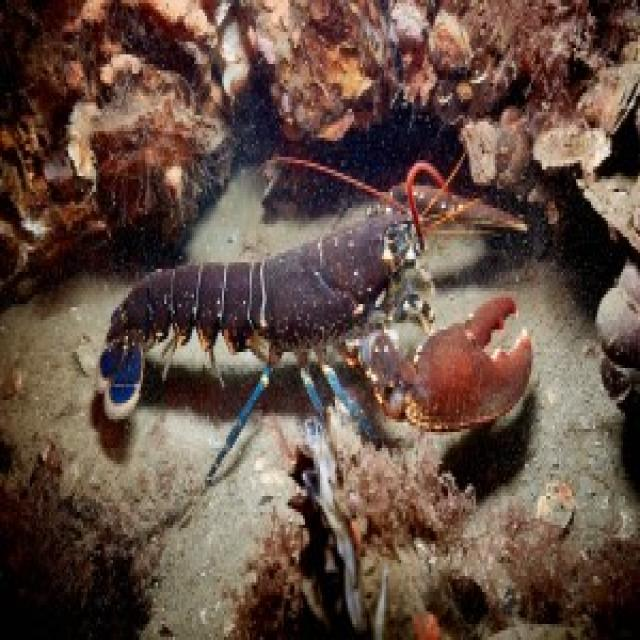lobsters: (59, 67, 640, 483)
